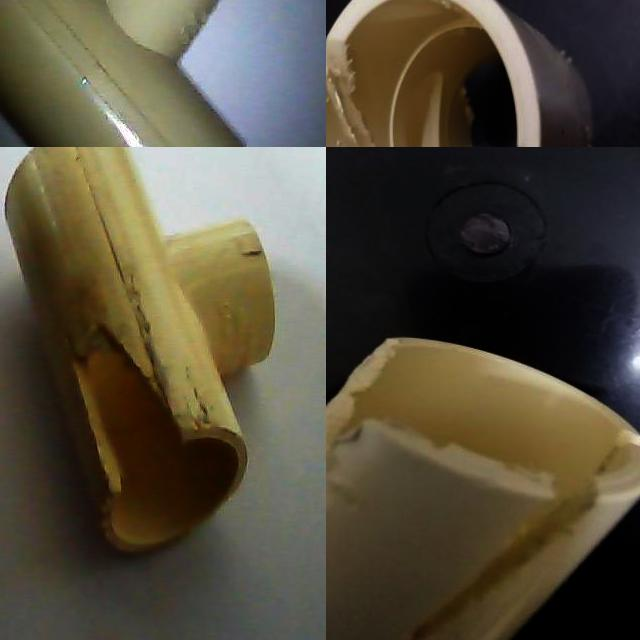Defective: (74, 313, 192, 469), (464, 459, 622, 567), (431, 569, 568, 634), (326, 362, 414, 462), (326, 40, 406, 147), (362, 609, 445, 640), (409, 0, 462, 27)
T Joint: (3, 147, 278, 557)
